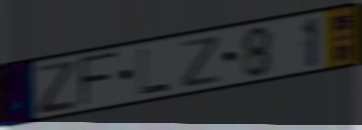1: (300, 14, 322, 69)
8: (241, 25, 275, 80)
F: (77, 49, 120, 109)
L: (137, 47, 172, 97)
Z: (180, 33, 223, 91), (35, 58, 77, 117)
